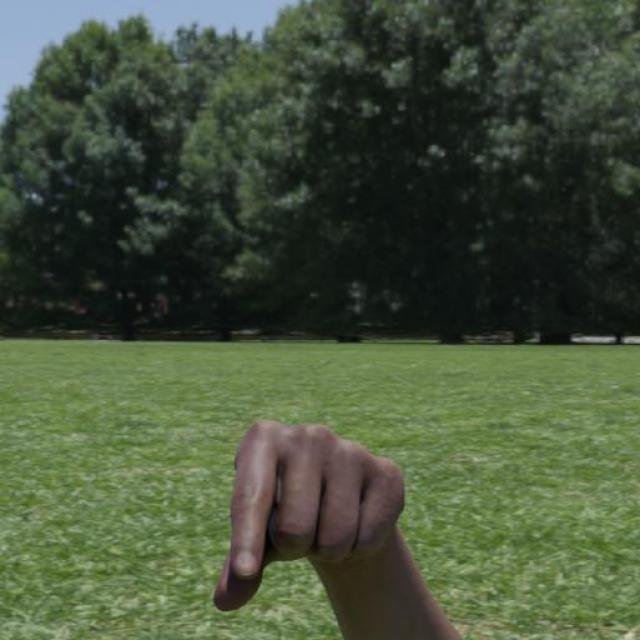Q: (210, 416, 410, 614)
